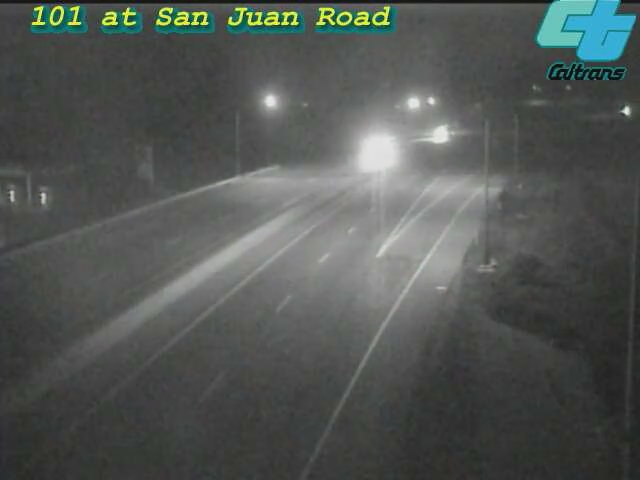vehicle: (351, 127, 401, 177), (418, 109, 468, 159), (602, 86, 640, 136)
